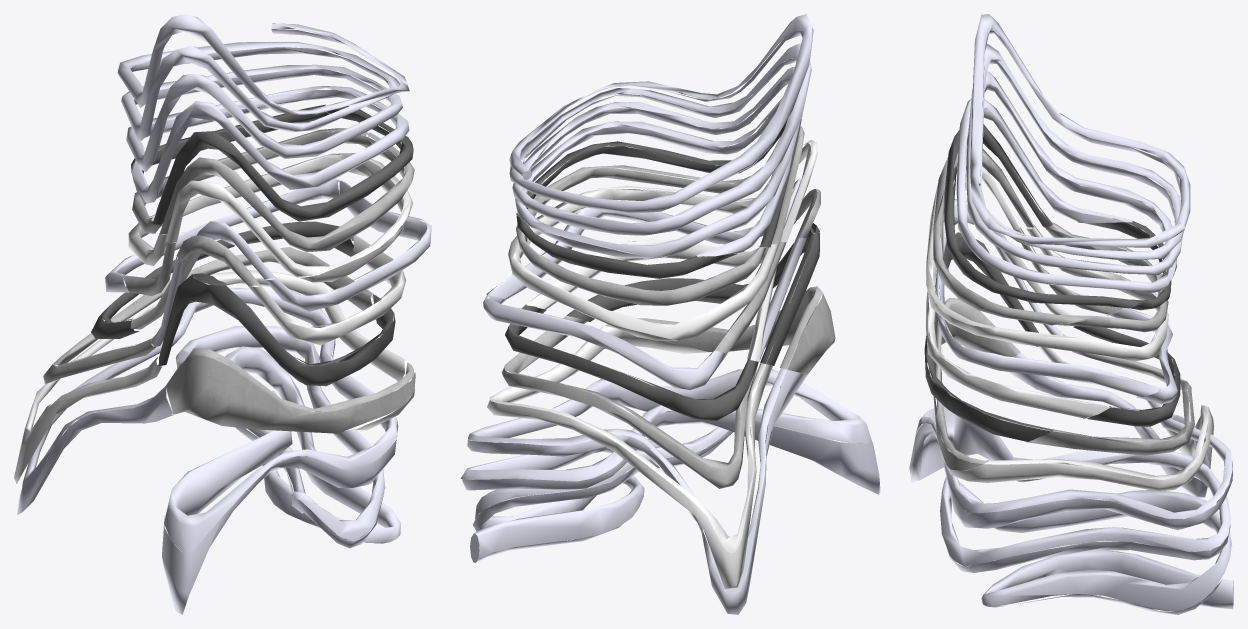
File: dfw-monoch.glb
3 views of the same model, side by side, from view 1: azimuth 30°, elevation 25°; view 2: azimuth 150°, elevation 25°; view 3: azimuth 270°, elevation 25° (orthographic). The views are drawn at different scales.
Parts seen in each view (by area): view 1: Object_5; view 2: Object_5; view 3: Object_5.
Part boxes in pixels (box(x1,y1,x2,y2)): Object_5: box(14, 14, 431, 614); Object_5: box(460, 14, 880, 614); Object_5: box(909, 14, 1233, 614).
Bounding box in the file's own units: 4.53 × 8.11 × 4.73.
4 materials, 1 textured.
